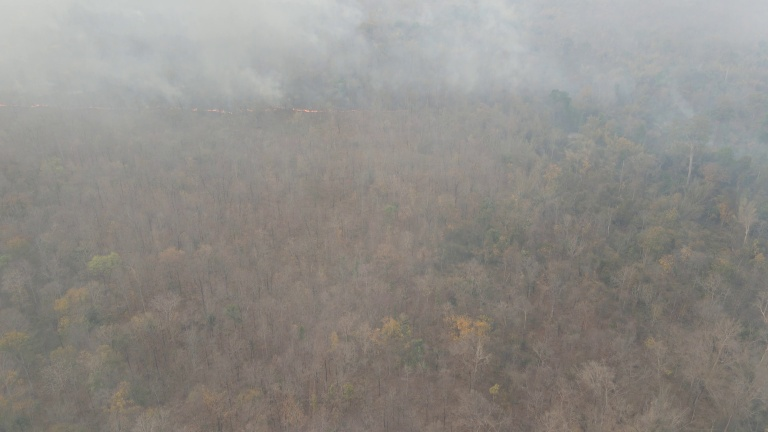fire: (180, 103, 324, 120), (4, 93, 60, 115)
smoke: (2, 1, 768, 132)
